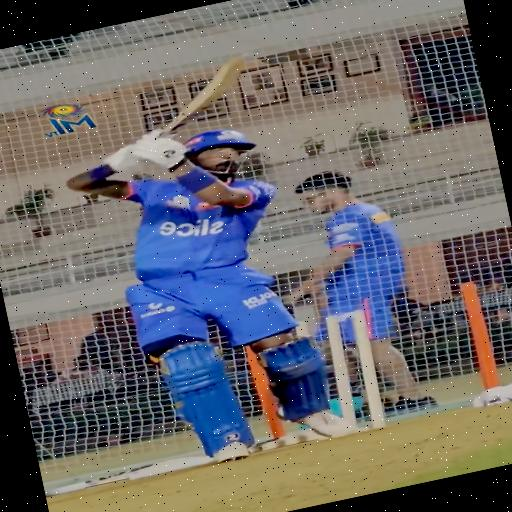Cricket bat: (162, 56, 244, 133)
